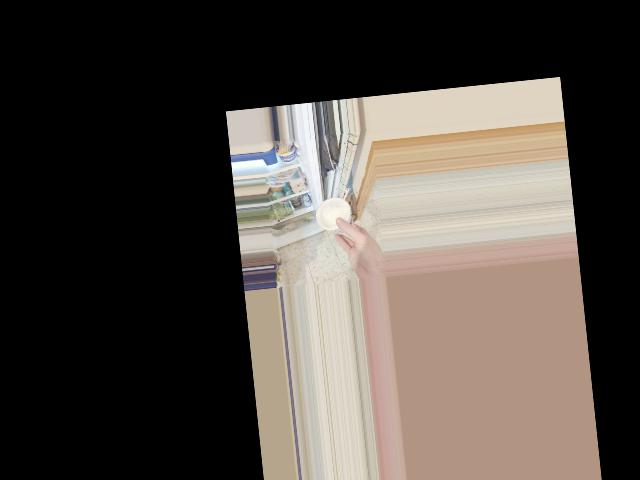cotage: (317, 193, 354, 238)
